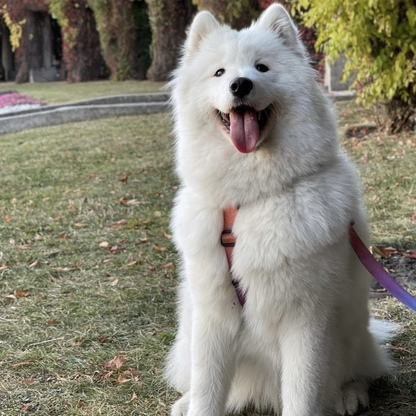samoyed: (159, 1, 402, 416)
